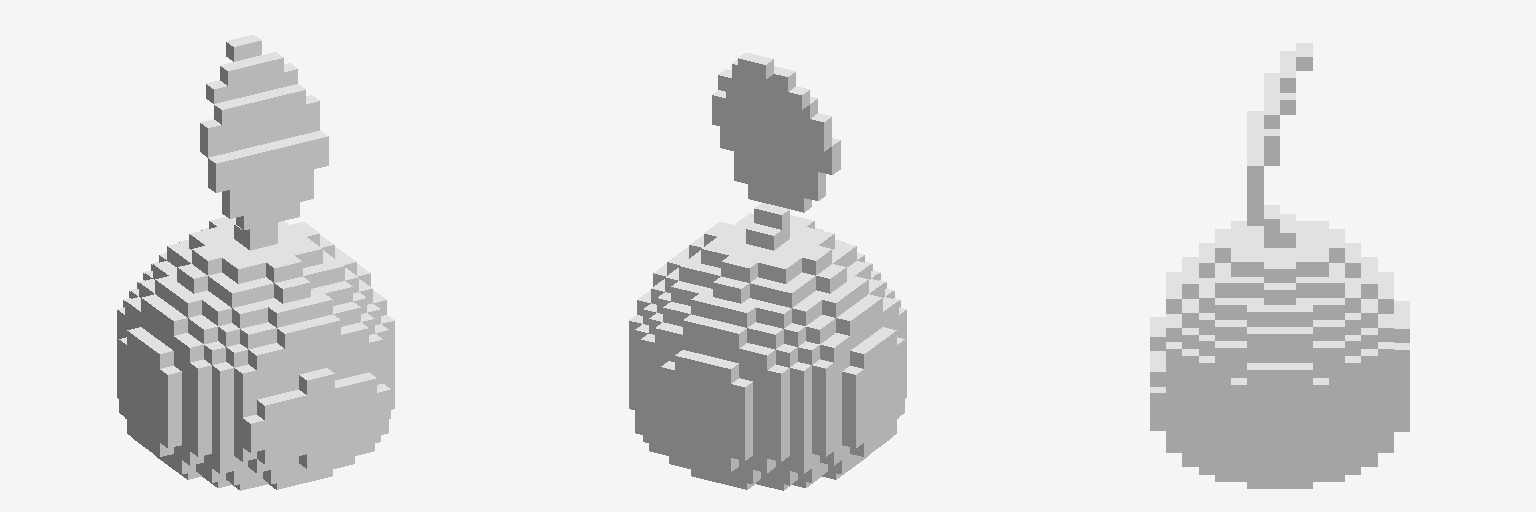
File: gel.obj
3 renders of one model, left to right at view 1: azimuth 30°, elevation 25°; view 2: azimuth 150°, elevation 25°; view 3: azimuth 270°, elevation 25°, orthographic.
Visible parts, largest first — view 1: object 1; view 2: object 1; view 3: object 1.
Part boxes in pixels (x1,y1,x2,y2): object 1: (117, 35, 394, 490); object 1: (629, 52, 906, 490); object 1: (1150, 43, 1409, 488).
Size of the model in its own units: 1.6 by 2.8 by 1.6.